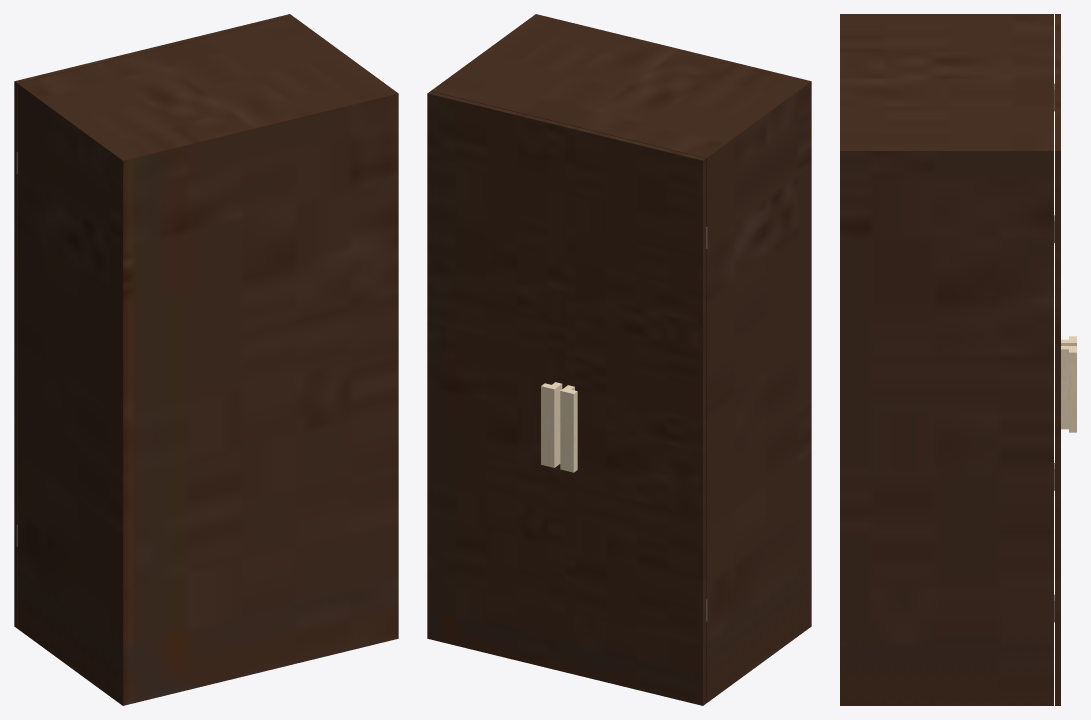
File: Closet23.glb
3 renders of one model, left to right at view 1: azimuth 30°, elevation 25°; view 2: azimuth 150°, elevation 25°; view 3: azimuth 270°, elevation 25°, orthographic.
Parts seen in each view (by area): view 1: Closet23_model, Closet23DoorR; view 2: Closet23_model, Closet23DoorR, Closet23DoorL; view 3: Closet23_model, Closet23DoorL, Closet23DoorR.
Part boxes in pixels (<box>): Closet23_model: <box>16,16,398,705</box>; Closet23DoorR: <box>14,47,154,628</box>; Closet23_model: <box>431,14,811,703</box>; Closet23DoorR: <box>560,125,707,705</box>; Closet23DoorL: <box>427,91,567,672</box>; Closet23_model: <box>840,14,1054,705</box>; Closet23DoorL: <box>1054,82,1076,705</box>; Closet23DoorR: <box>1054,14,1076,490</box>.
Size of the model in its own units: 2.98 by 5.6 by 2.17.
1 material, 1 textured.
